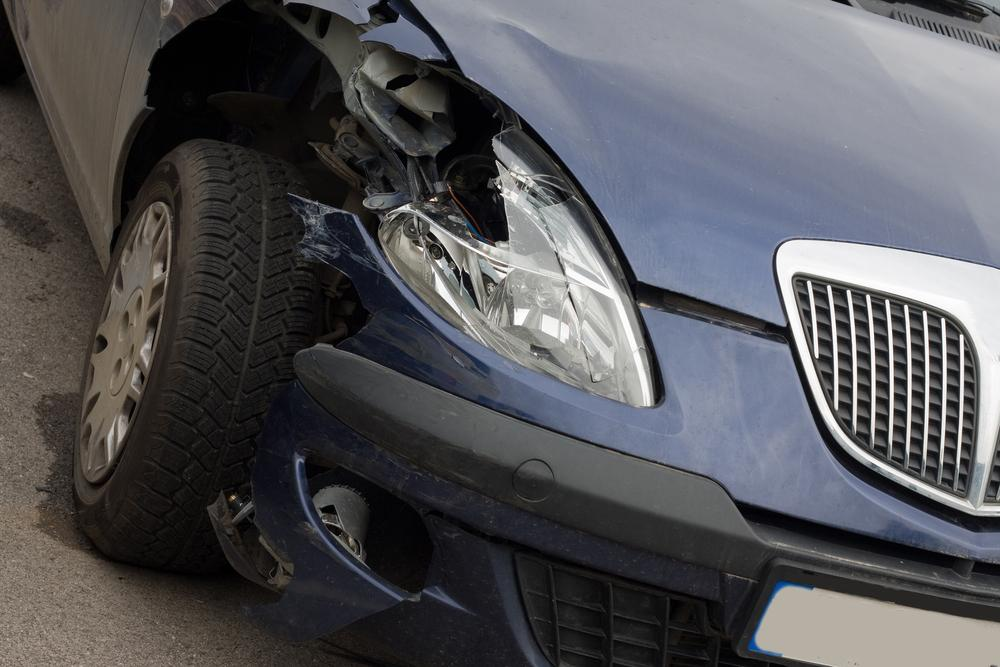crack: (318, 593, 411, 639)
dent: (480, 0, 616, 125)
lamp broken: (351, 50, 660, 408)
scratch: (293, 199, 378, 272)
